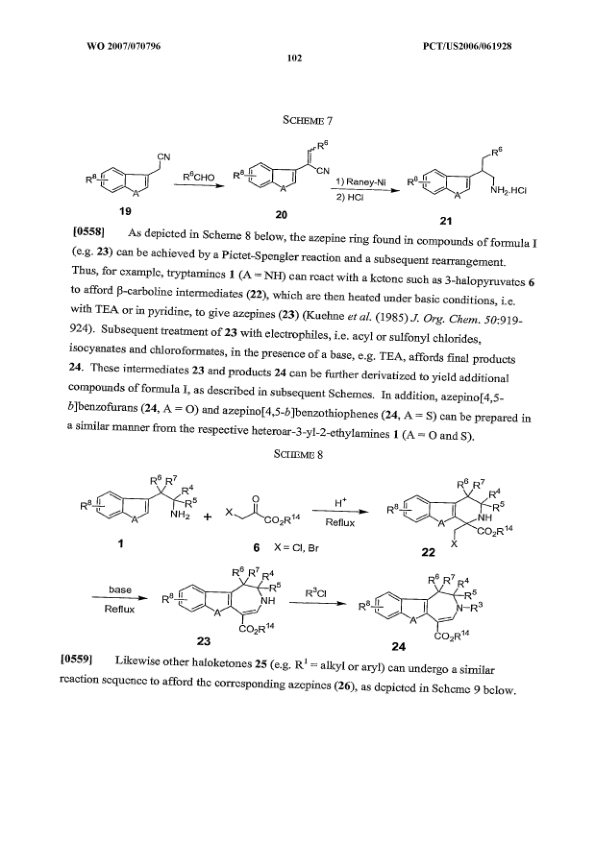compound-structure: (382, 472, 522, 549), (152, 563, 287, 639), (358, 564, 488, 642), (79, 464, 201, 537), (394, 145, 530, 206), (224, 135, 331, 194), (83, 146, 173, 211), (222, 485, 303, 532)
reaction: (75, 443, 536, 660), (41, 121, 553, 226)
reaction-arrow: (86, 582, 151, 617), (311, 494, 373, 527), (325, 176, 399, 201), (292, 583, 345, 611), (167, 168, 226, 193)
